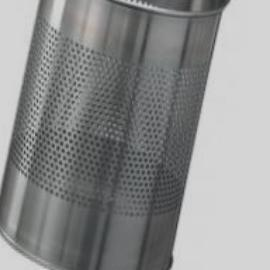Bote de Basura: (0, 0, 231, 270)
